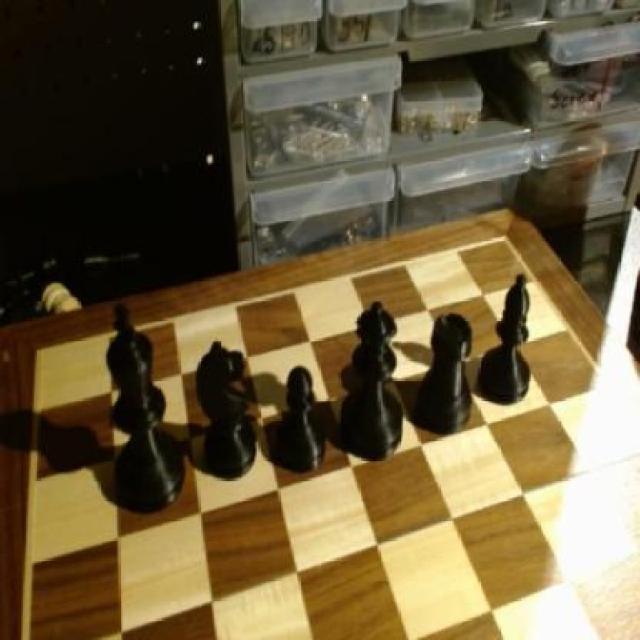bishop: (480, 258, 545, 414)
black-bishop: (102, 298, 188, 520)
black-king: (192, 331, 264, 483)
black-knight: (276, 358, 334, 484)
black-pawn: (342, 297, 410, 469)
black-queen: (417, 308, 475, 440)
